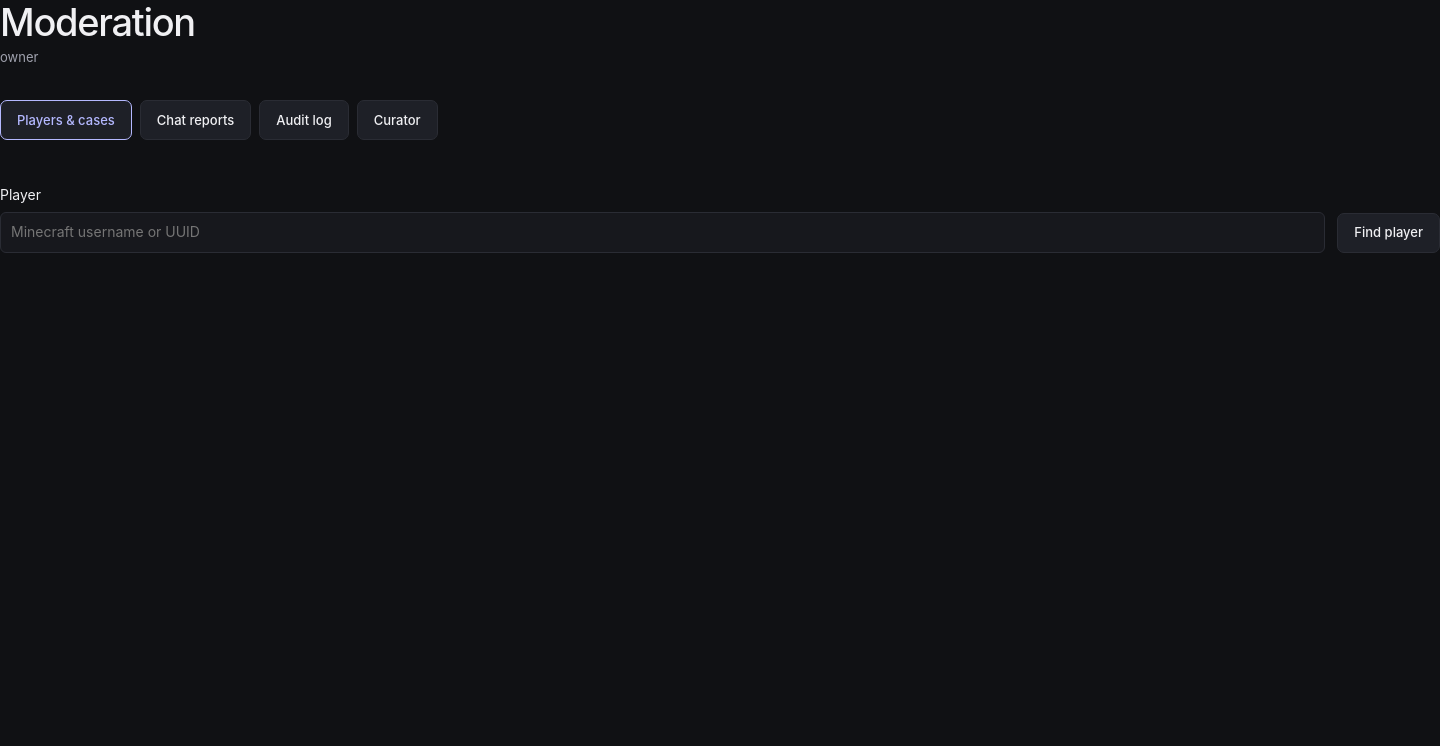
Test: shows request failures
Click the button "Curator": (397, 120) [357,100,438,140]
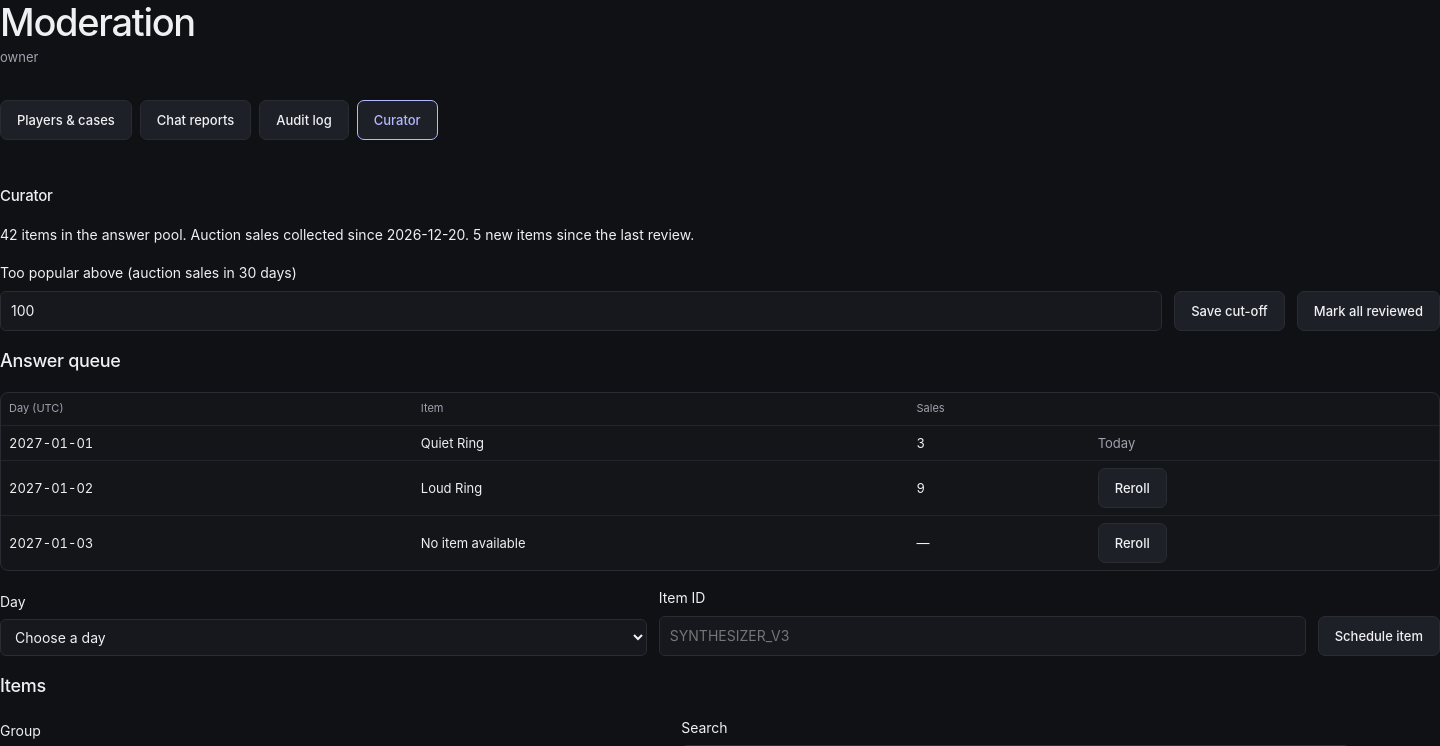
Now the text "42 items in the answer pool" is shown, box [0,226,694,243]
Click the button "Reroll" in the row of "2027-01-02": (1132, 488) [1098,468,1167,508]
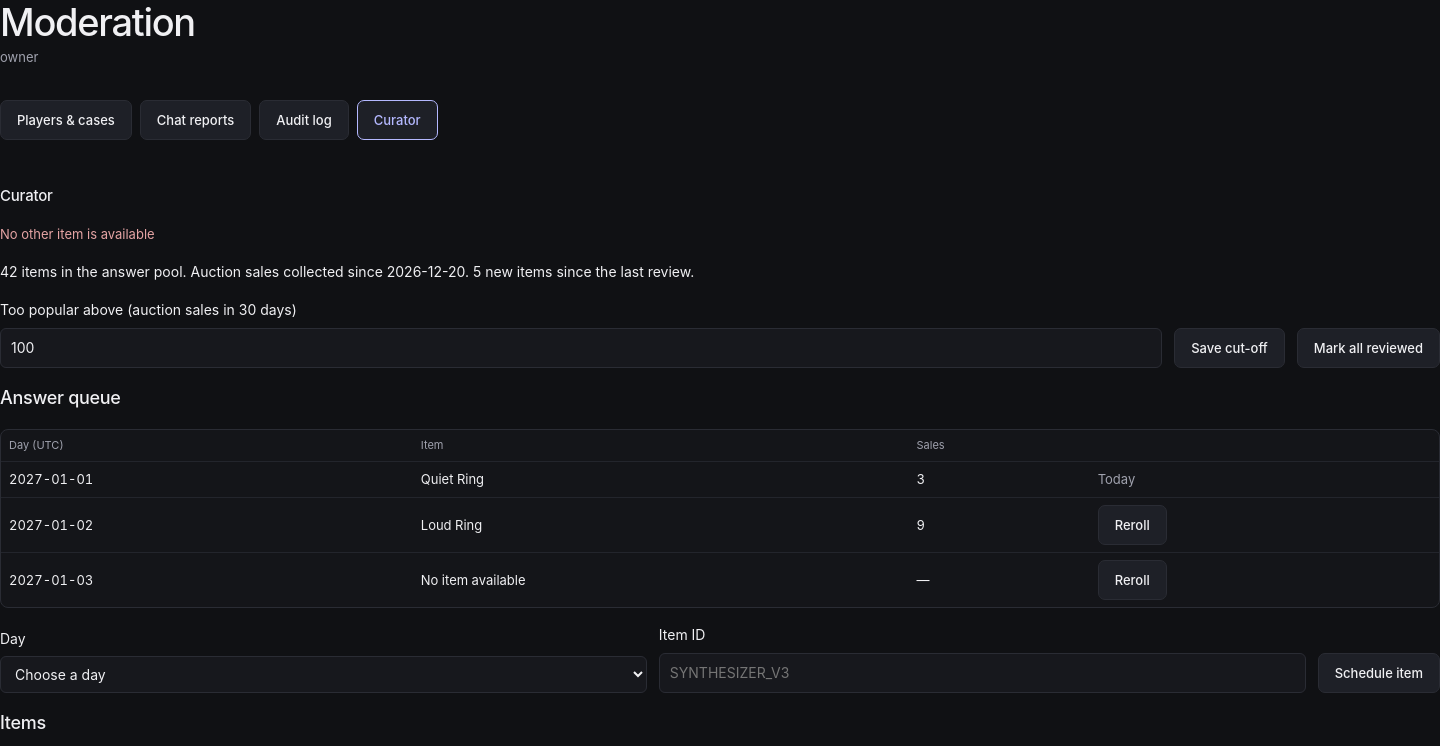
Now the text "No other item is available" is shown, box [0,226,155,242]
